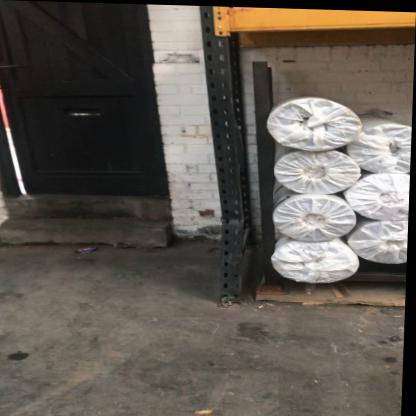vertical_damage: (208, 185, 256, 242)
